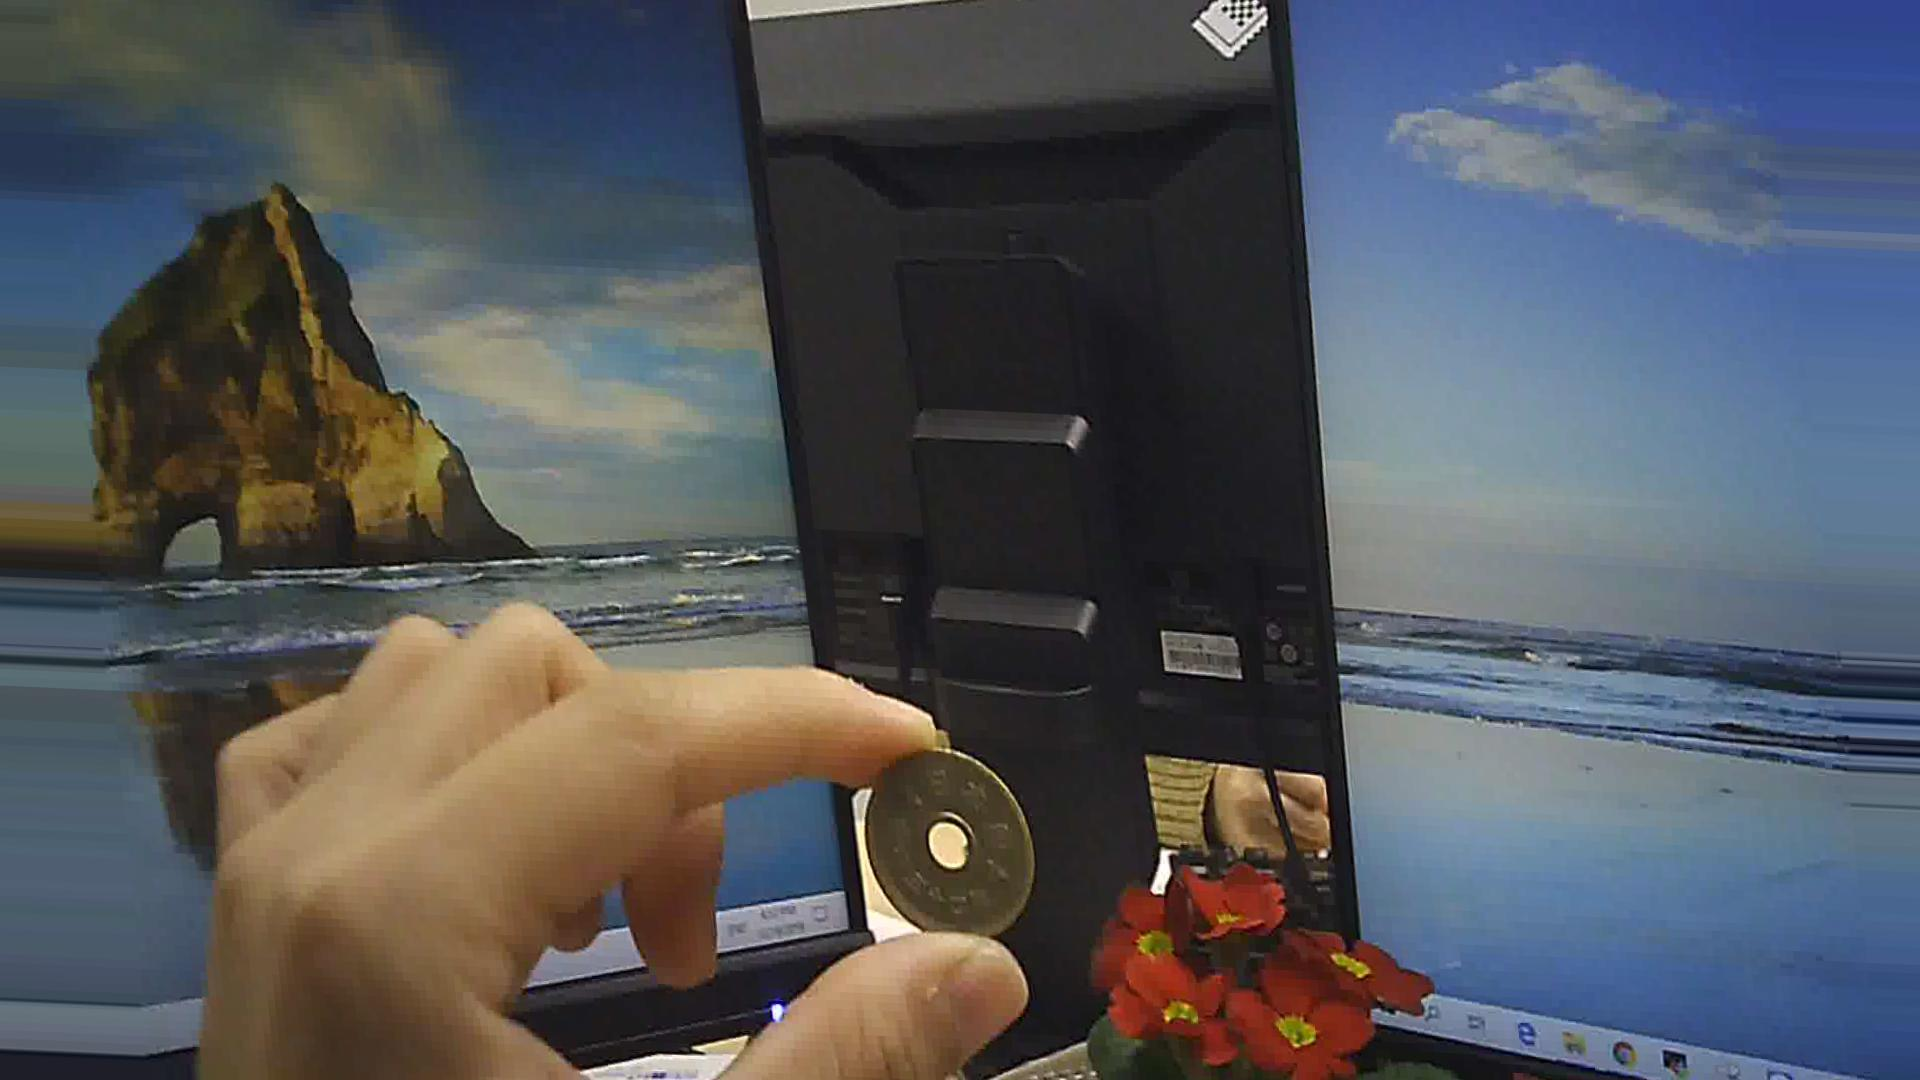5 Yen: (860, 740, 1035, 944)
